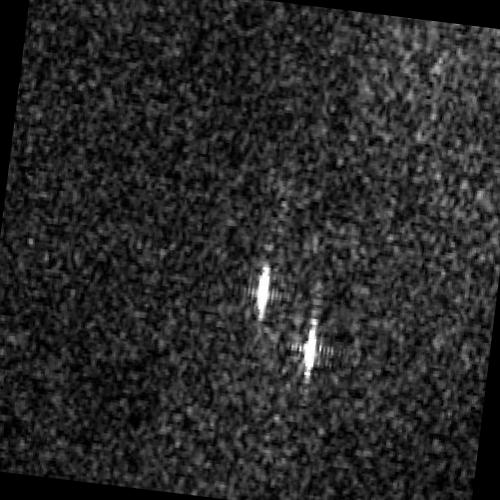ship: (255, 265, 271, 317), (303, 323, 316, 376)
